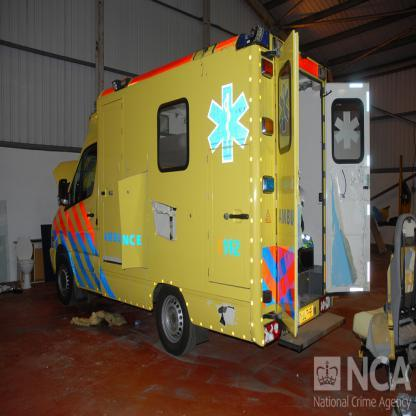Ambulance - v1 Ambulance last generate: (48, 24, 372, 361)
